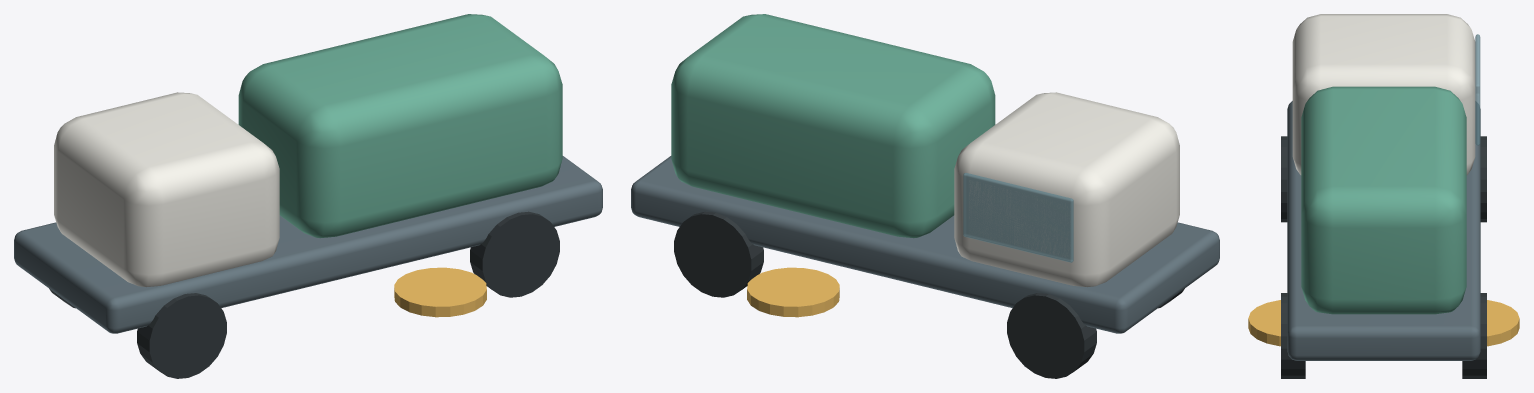
The model's file is sweeper.glb.
3 renders of one model, left to right at view 1: azimuth 30°, elevation 25°; view 2: azimuth 150°, elevation 25°; view 3: azimuth 270°, elevation 25°, orthographic. The views are drawn at different scales.
Visible parts, largest first — view 1: Sweeper hopper, Cab over engine, Commercial chassis, Heavy tyre, Heavy tyre.002, Rotary curb brush; view 2: Sweeper hopper, Cab over engine, Commercial chassis, Large windshield, Heavy tyre.001, Heavy tyre.003, Rotary curb brush.001; view 3: Sweeper hopper, Cab over engine, Commercial chassis, Rotary curb brush, Rotary curb brush.001, Heavy tyre.002, Heavy tyre.003, Large windshield, Heavy tyre, Heavy tyre.001.
Part boxes in pixels (<box>): Sweeper hopper: <box>238,14,562,238</box>; Cab over engine: <box>54,92,279,287</box>; Commercial chassis: <box>14,156,602,333</box>; Heavy tyre: <box>137,293,226,378</box>; Heavy tyre.002: <box>470,211,559,297</box>; Rotary curb brush: <box>394,267,486,317</box>; Sweeper hopper: <box>671,14,995,238</box>; Cab over engine: <box>954,92,1179,287</box>; Commercial chassis: <box>631,156,1219,333</box>; Large windshield: <box>963,173,1073,262</box>; Heavy tyre.001: <box>1007,293,1096,378</box>; Heavy tyre.003: <box>674,211,763,297</box>; Rotary curb brush.001: <box>747,267,839,317</box>; Sweeper hopper: <box>1301,86,1466,314</box>; Cab over engine: <box>1292,14,1475,174</box>; Commercial chassis: <box>1287,101,1480,360</box>; Rotary curb brush: <box>1248,300,1280,346</box>; Rotary curb brush.001: <box>1487,300,1519,346</box>; Heavy tyre.002: <box>1281,293,1305,378</box>; Heavy tyre.003: <box>1462,293,1486,378</box>; Large windshield: <box>1475,34,1480,145</box>; Heavy tyre: <box>1281,136,1287,222</box>; Heavy tyre.001: <box>1480,136,1486,222</box>.
Bounding box in the file's own units: 7 × 2.88 × 3.44.
